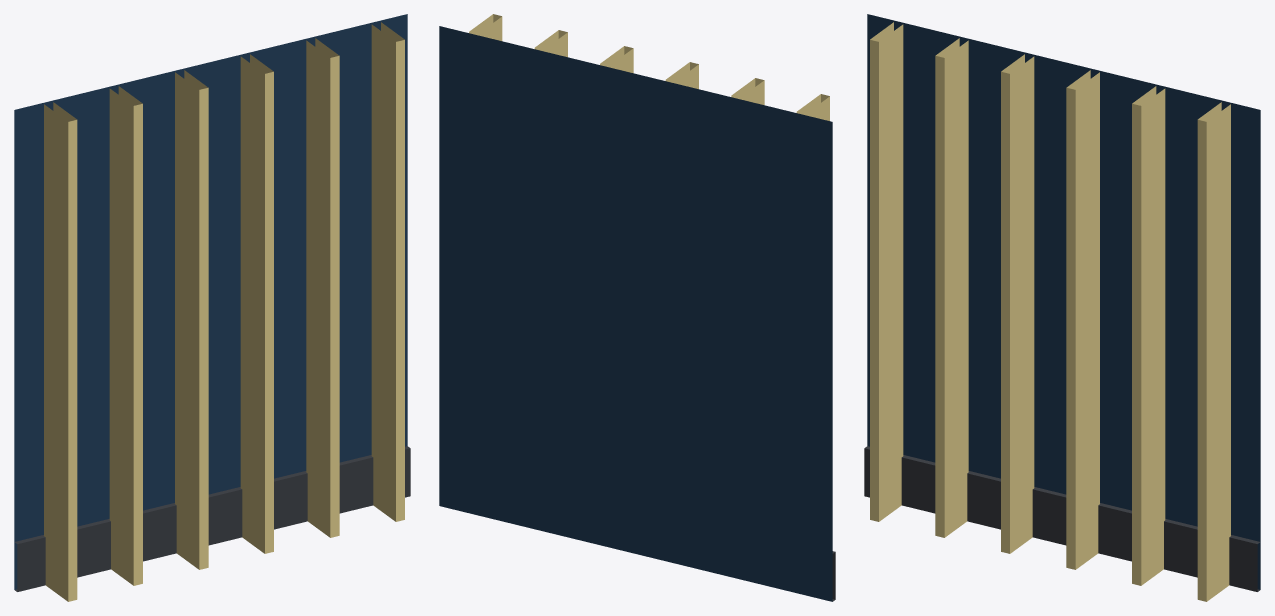
The model's file is mid-w1.fbx.
3 views of the same model, side by side, from view 1: azimuth 30°, elevation 25°; view 2: azimuth 150°, elevation 25°; view 3: azimuth 330°, elevation 25° (orthographic).
Visible parts, largest first — view 1: a2009/800/mid-w1; view 2: a2009/800/mid-w1; view 3: a2009/800/mid-w1.
Boxes of the visible parts, left/top/right/bottom form: a2009/800/mid-w1: left=14, top=14, right=410, bottom=601; a2009/800/mid-w1: left=439, top=14, right=835, bottom=601; a2009/800/mid-w1: left=864, top=14, right=1260, bottom=601.
Size of the model in its own units: 3 by 3.5 by 0.34.
